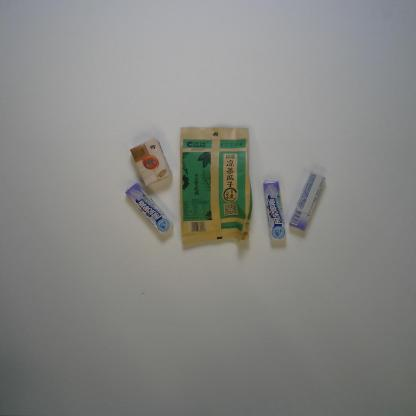Candy: (125, 182, 175, 235), (288, 170, 327, 232), (262, 178, 288, 242)
Dried Food: (179, 126, 253, 245)
Tissue: (129, 137, 173, 187)
